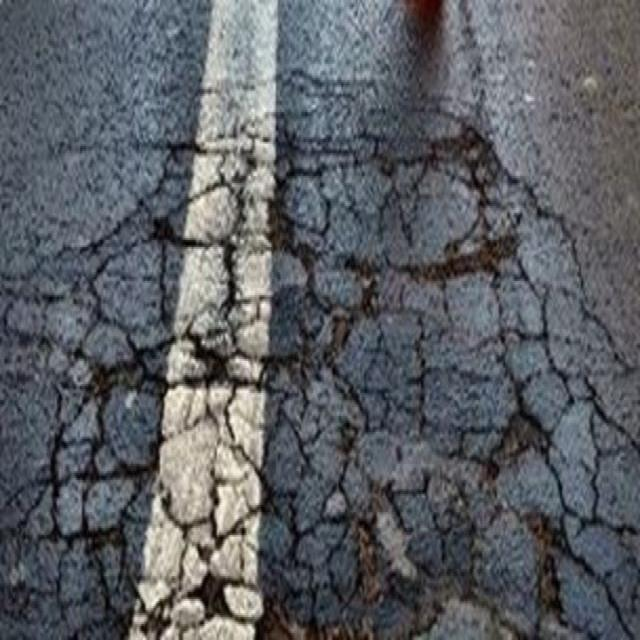Drain Hole: (99, 103, 606, 640)
